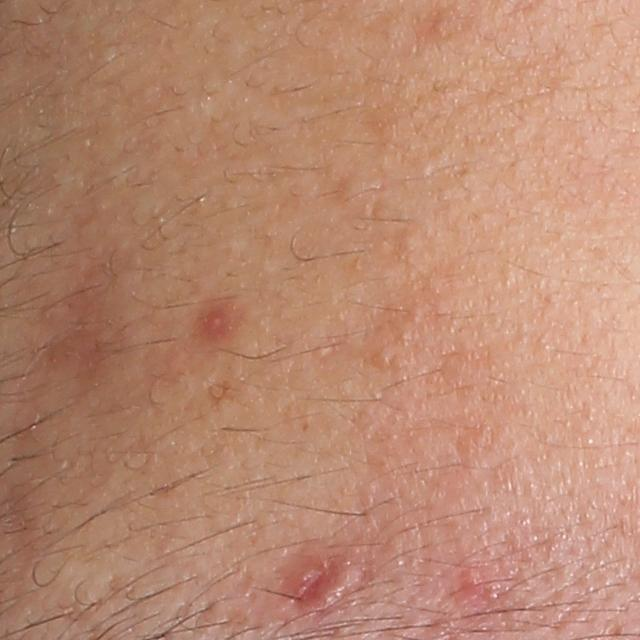comedo: (402, 230, 423, 250), (374, 349, 392, 367)
papule: (203, 310, 224, 330)
